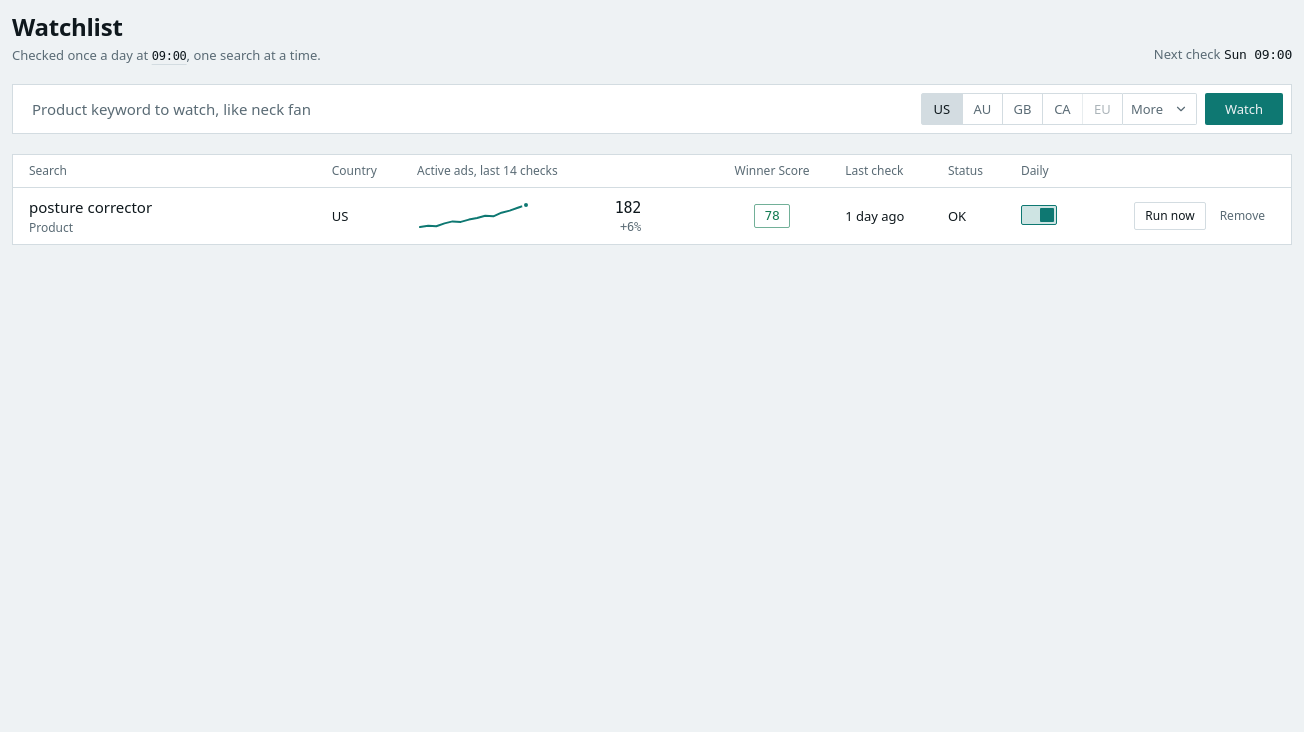
Test case: WatchlistPage › run now toasts copy
Expected: the link "posture corrector" is shown, [29,196,152,216]
Click the button with aria-label "Run posture corrector now".
click(1170, 216)  # box [1134,202,1206,230]
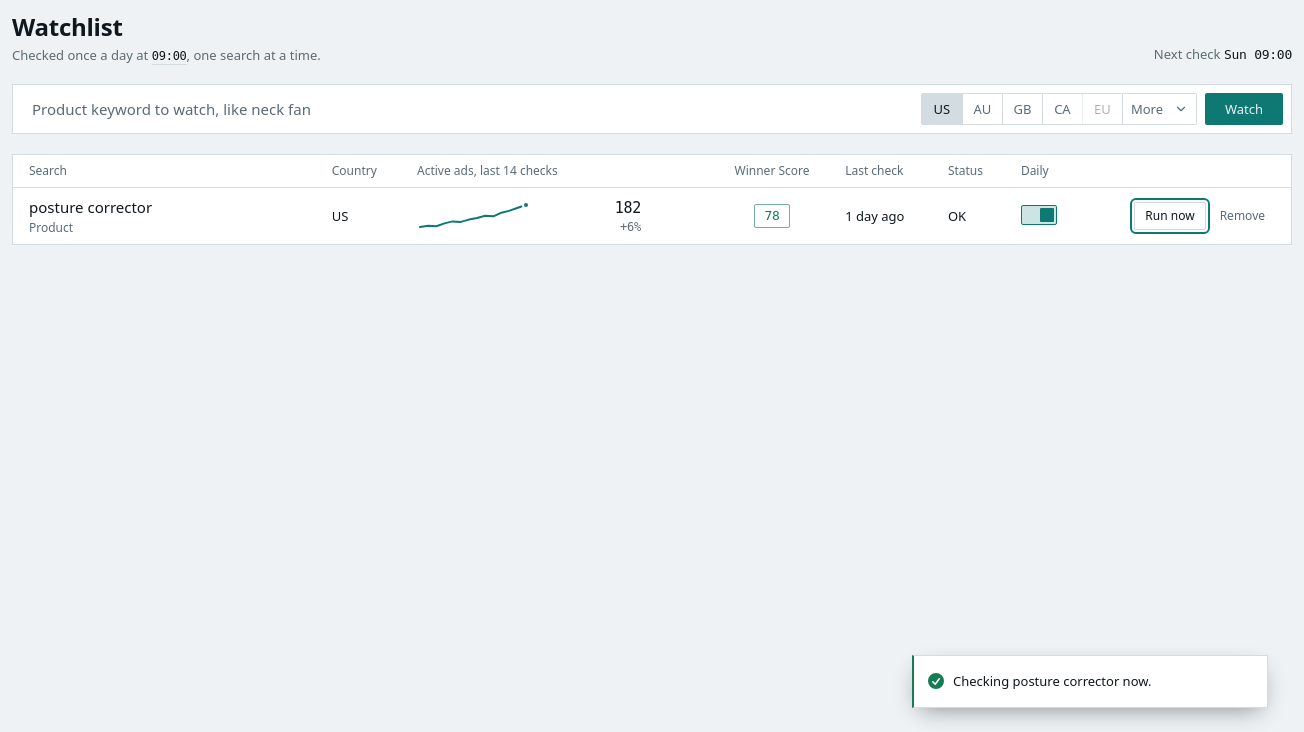
Result: the text "Checking posture corrector now." is shown at [953,672,1152,691]
